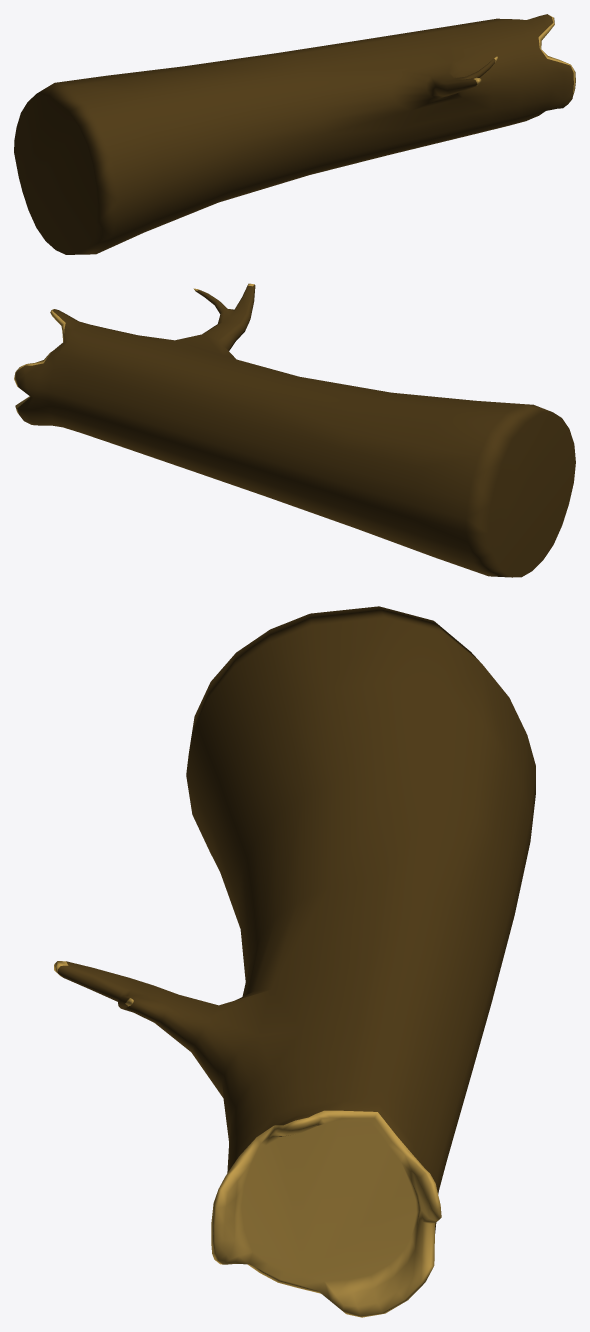
File: tronco_ver2.fbx
3 views of the same model, one above another, from view 1: azimuth 30°, elevation 25°; view 2: azimuth 150°, elevation 25°; view 3: azimuth 270°, elevation 25° (orthographic). The views are drawn at different scales.
Parts seen in each view (by area): view 1: Cilindro.001; view 2: Cilindro.001; view 3: Cilindro.001.
Part boxes in pixels (<box>): Cilindro.001: <box>14,14,575,254</box>; Cilindro.001: <box>14,283,575,577</box>; Cilindro.001: <box>54,606,535,1317</box>.
Size of the model in its own units: 744 by 230 by 320.
